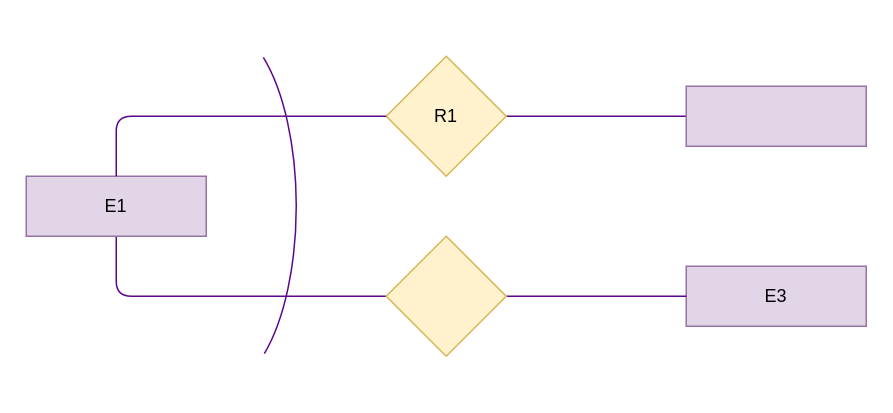
Image size: 893x413. Some labels were removed from this diagram. Here are the shapes that lost their labels. From the top down, the centre of each, then its label:
At (x=775, y=115): "E2".
At (x=445, y=295): "R2".
